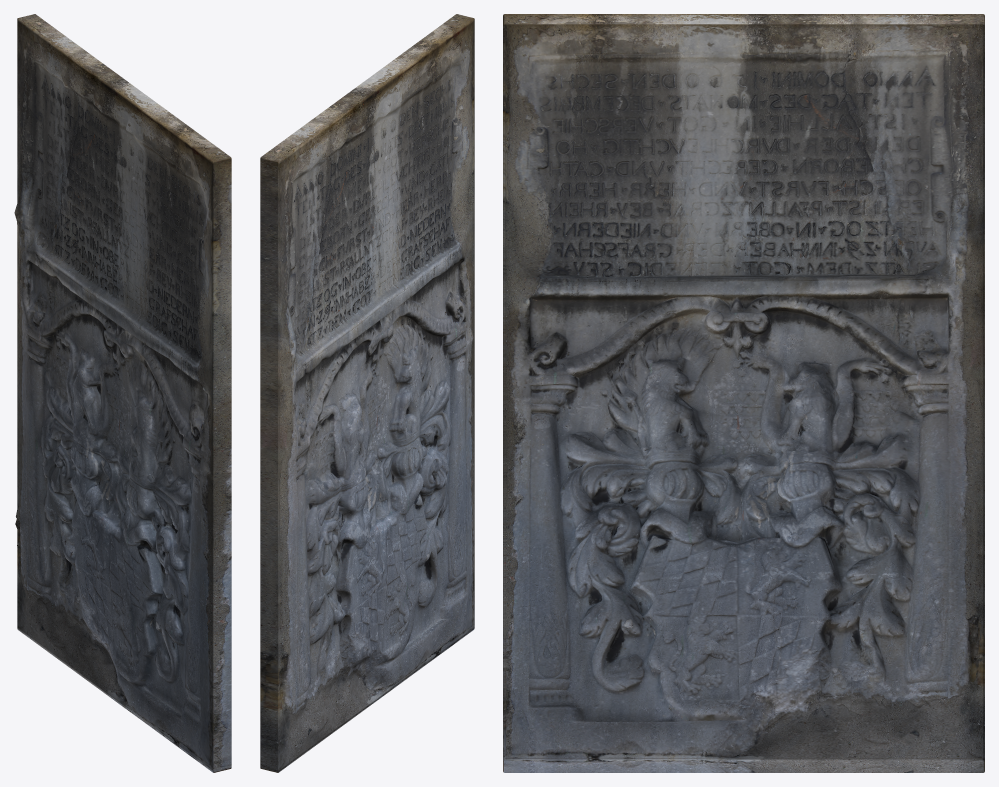
Rendered from sm_Relief_01_01.fbx.
3 views of the same model, side by side, from view 1: azimuth 30°, elevation 25°; view 2: azimuth 150°, elevation 25°; view 3: azimuth 270°, elevation 25° (orthographic). The views are drawn at different scales.
Visible parts, largest first — view 1: sm_Relief_01_01_LOD0; view 2: sm_Relief_01_01_LOD0; view 3: sm_Relief_01_01_LOD0.
Part boxes in pixels (x1,y1,x2,y2): sm_Relief_01_01_LOD0: [14, 14, 231, 772]; sm_Relief_01_01_LOD0: [260, 14, 474, 772]; sm_Relief_01_01_LOD0: [503, 14, 984, 772].
Size of the model in its own units: 6 by 70.66 by 121.
